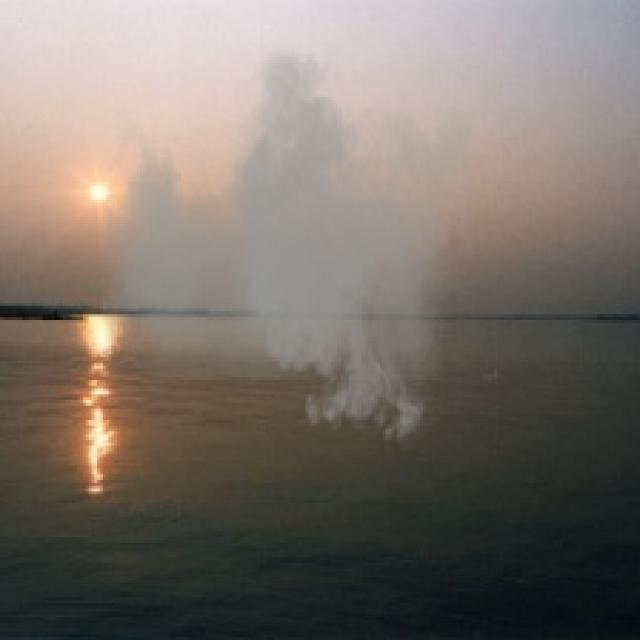smoke: (100, 32, 474, 454)
